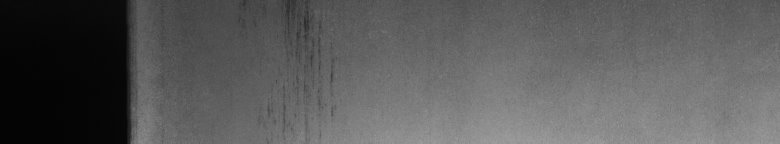ka: (267, 4, 337, 116)
